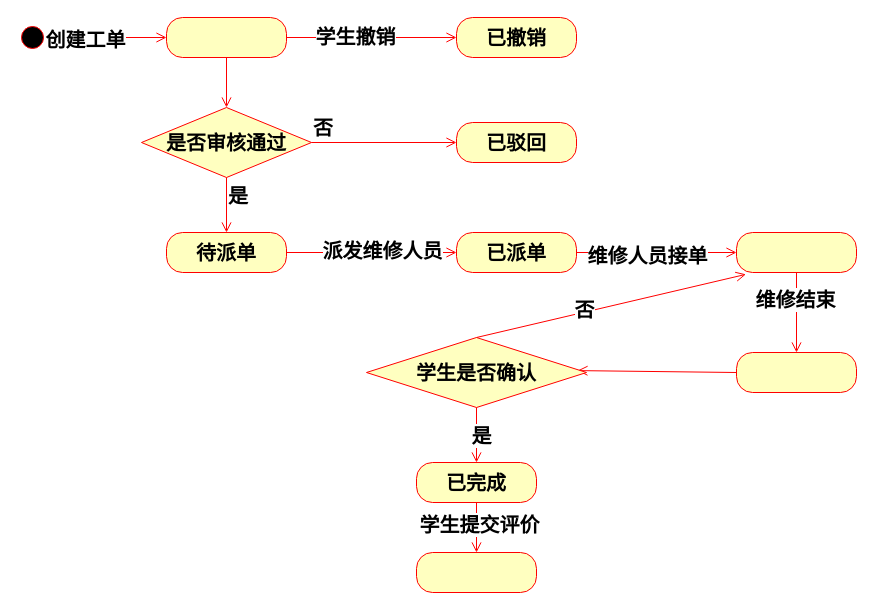
This 874x610 diagram has some shape labels left out. Each missing label, with the centre of its shape:
"处理中" goes at pixel 796 252.
"已评价" goes at pixel 476 572.
"待审核" goes at pixel 226 37.
"待确认" goes at pixel 796 372.
